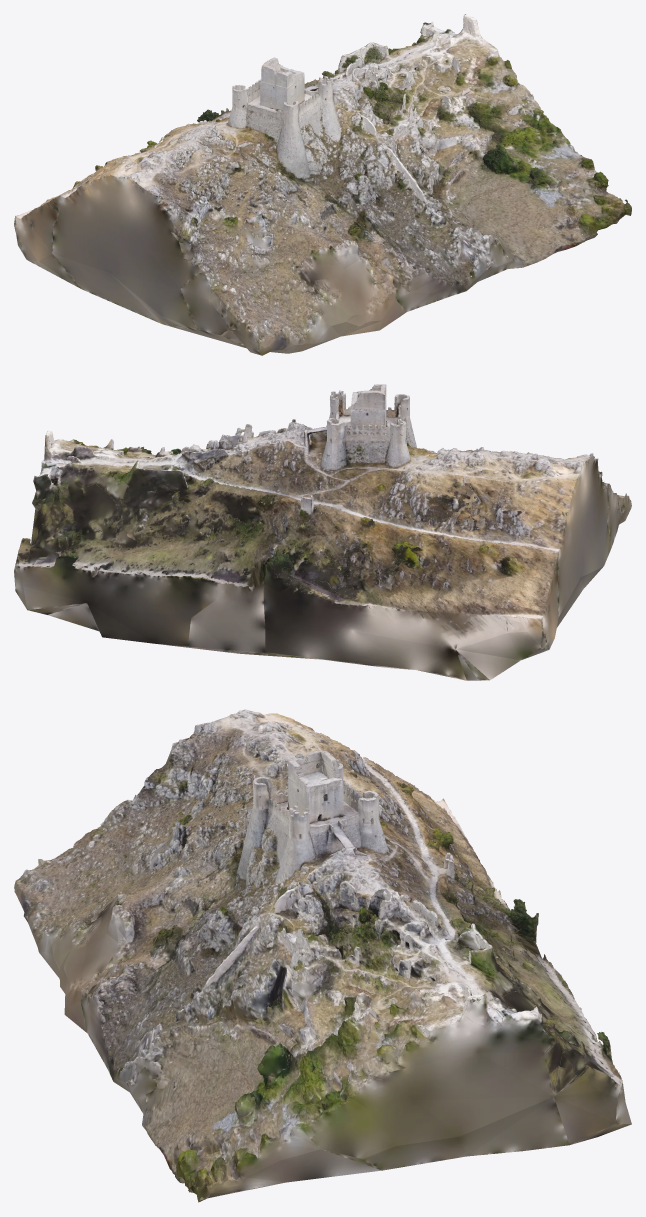
File: sf-castle-of-rocca-calascio-a2c736.glb
The picture shows the model from 3 angles, top to bottom: view 1: azimuth 30°, elevation 25°; view 2: azimuth 150°, elevation 25°; view 3: azimuth 270°, elevation 25°; orthographic projection. The views are drawn at different scales.
Parts seen in each view (by area): view 1: Object_4, Object_12; view 2: Object_12, Object_4; view 3: Object_4, Object_12.
Part boxes in pixels (x1=…): Object_4: x1=14, y1=14, x2=631, y2=355; Object_12: x1=14, y1=23, x2=630, y2=355; Object_12: x1=14, y1=385, x2=628, y2=680; Object_4: x1=16, y1=384, x2=631, y2=680; Object_4: x1=14, y1=709, x2=621, y2=1200; Object_12: x1=14, y1=713, x2=631, y2=1202.
Size of the model in its own units: 4.04 by 1.54 by 3.2.
2 materials, 2 textured.
